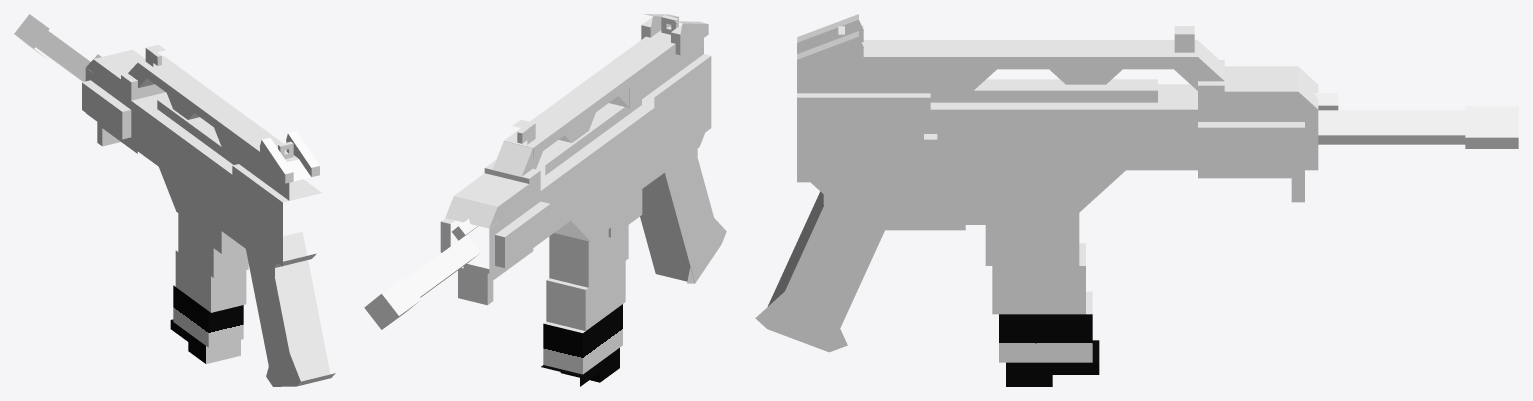
Rendered from jeg_burst_rifle.glb.
The picture shows the model from 3 angles, left to right: view 1: azimuth 30°, elevation 25°; view 2: azimuth 150°, elevation 25°; view 3: azimuth 270°, elevation 25°; orthographic projection. The views are drawn at different scales.
Visible parts, largest first — view 1: Gun; view 2: Gun; view 3: Gun.
Boxes of the visible parts, x1=… form: Gun: x1=14, y1=14, x2=335, y2=386; Gun: x1=364, y1=14, x2=726, y2=386; Gun: x1=755, y1=14, x2=1518, y2=386.
Size of the model in its own units: 0.0812 by 0.3616 by 0.714.
Materials: 1 (1 with a texture image).
